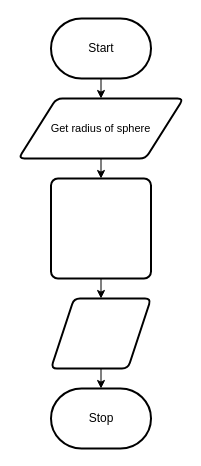
This 201x466 diagram has some shape labels left out. The box of each missing label's shape, as (x1, y1, x2, y2) in pixels:
Show volume: (50, 297, 152, 369)
volume = (4/3) * (π) * (radius ** 2): (50, 177, 152, 279)
